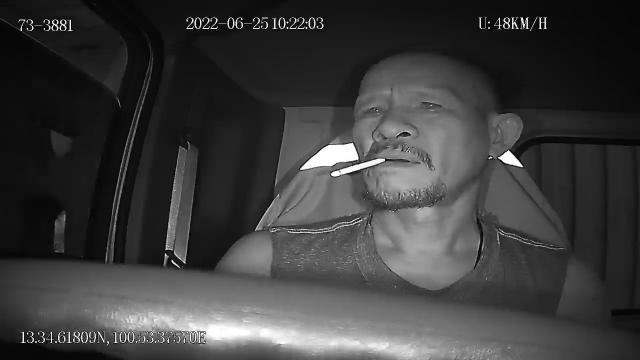SafeDriving: (410, 90, 452, 117), (356, 95, 392, 124)
Smoking: (330, 156, 384, 176)
